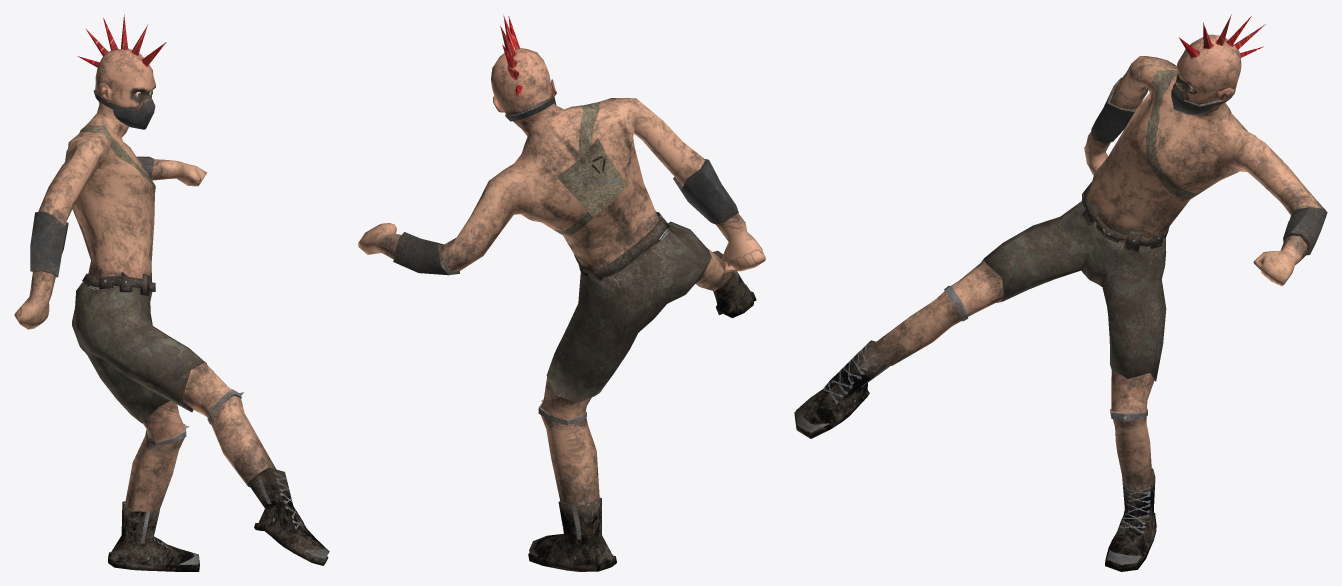
The model's file is Anim_ataque_f2_npc2.0021.obj.
3 renders of one model, left to right at view 1: azimuth 30°, elevation 25°; view 2: azimuth 150°, elevation 25°; view 3: azimuth 270°, elevation 25°, orthographic. The views are drawn at different scales.
Visible parts, largest first — view 1: polySurface1; view 2: polySurface1; view 3: polySurface1.
Boxes of the visible parts, x1,y1,x2,y2 form: polySurface1: [14, 14, 329, 571]; polySurface1: [358, 14, 765, 571]; polySurface1: [794, 14, 1327, 571].
Size of the model in its own units: 5.33 by 9.57 by 8.46.
